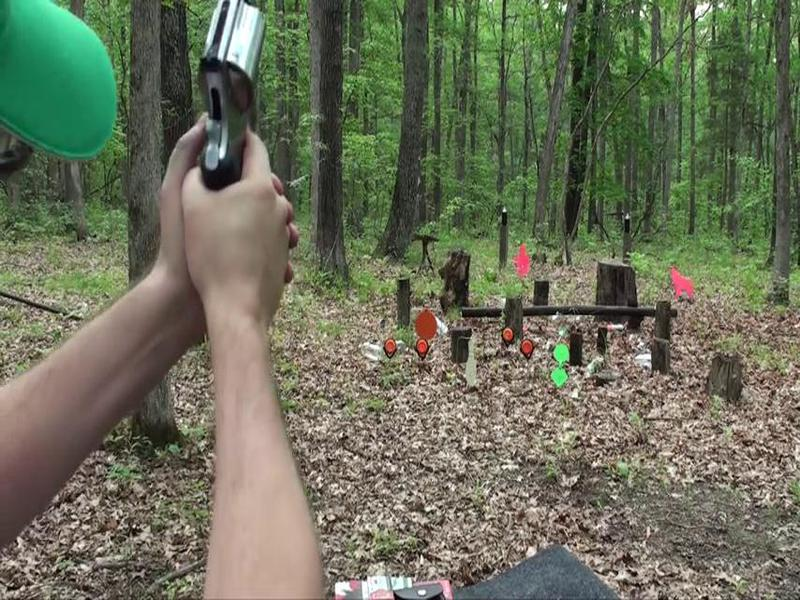Revolver: (181, 1, 291, 216)
